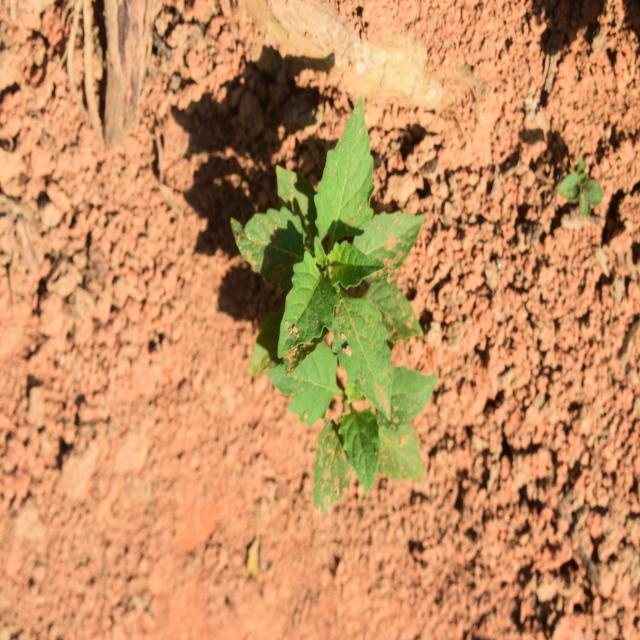Black_nightshade: (219, 114, 439, 338), (269, 337, 442, 498)
